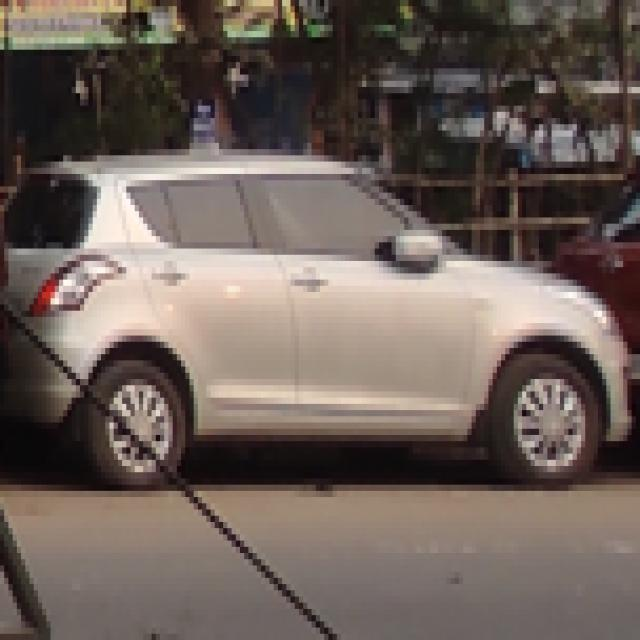car: (8, 143, 636, 509)
